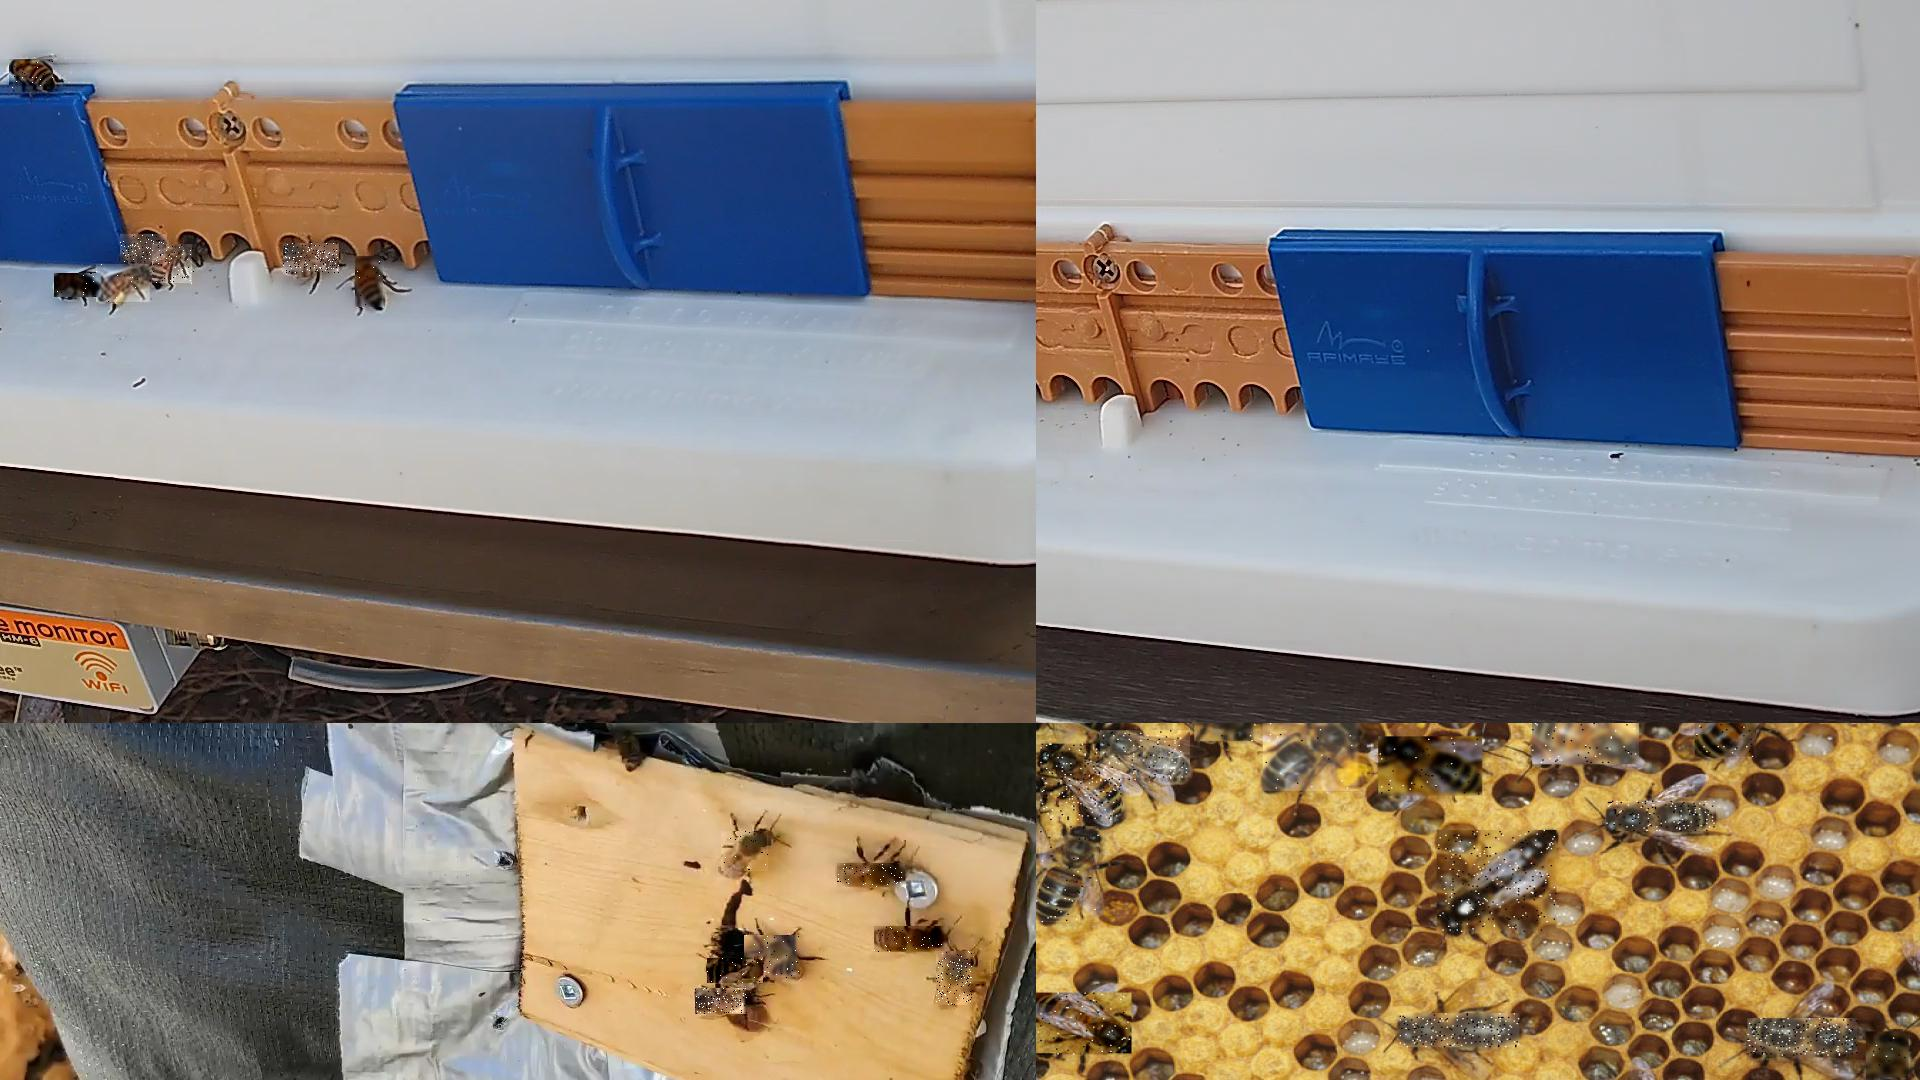bee: (1263, 723, 1361, 793), (1378, 737, 1484, 799), (1040, 745, 1122, 823), (1036, 827, 1100, 924), (1036, 993, 1133, 1055), (1100, 731, 1192, 782), (1532, 723, 1640, 766), (1747, 1019, 1858, 1058), (1400, 1014, 1520, 1048), (1607, 800, 1717, 832), (745, 936, 800, 980), (1695, 723, 1756, 758), (1866, 1031, 1909, 1079), (721, 831, 771, 872), (874, 926, 948, 953), (938, 951, 975, 1006), (153, 245, 195, 286), (284, 244, 340, 274), (837, 862, 906, 887), (356, 257, 386, 310), (708, 959, 767, 984), (696, 988, 749, 1015), (120, 235, 167, 264), (9, 59, 54, 90), (1196, 723, 1259, 742), (54, 273, 103, 298)
pollenbee: (96, 264, 152, 303)
queen: (1437, 831, 1559, 934)
